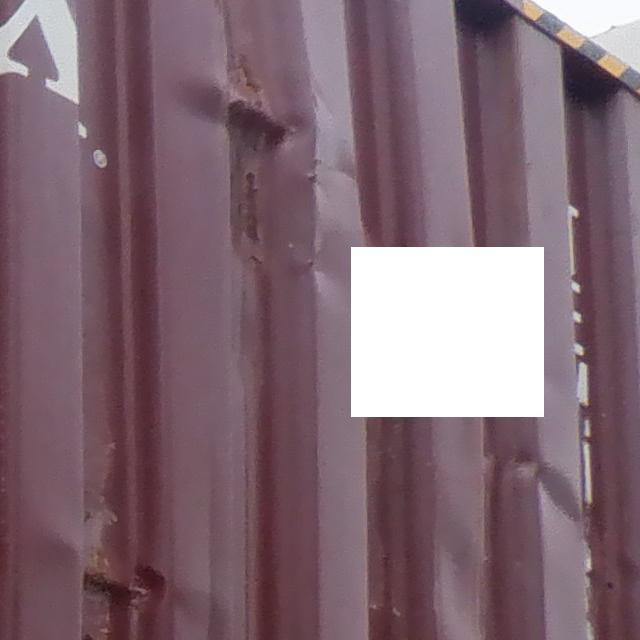dent: (206, 48, 358, 271), (73, 552, 179, 632)
